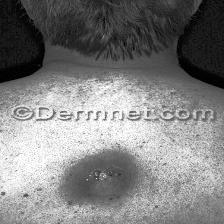Benign Marking or Mole: (64, 149, 138, 205)
